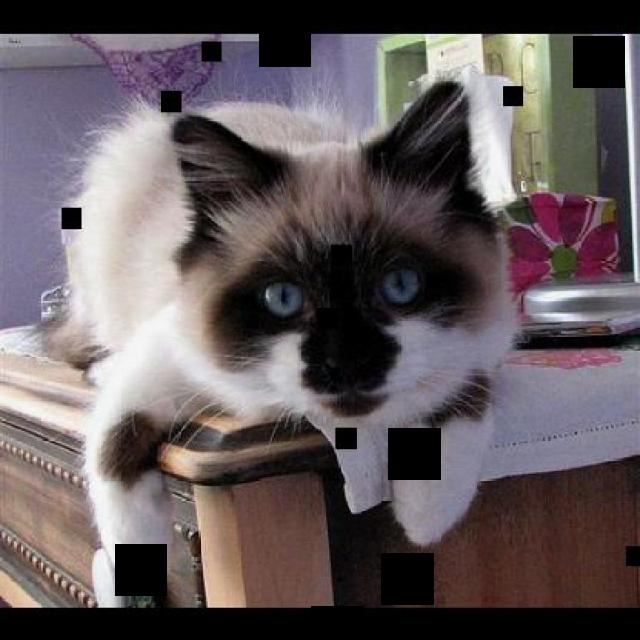unauthorized: (29, 69, 522, 591)
